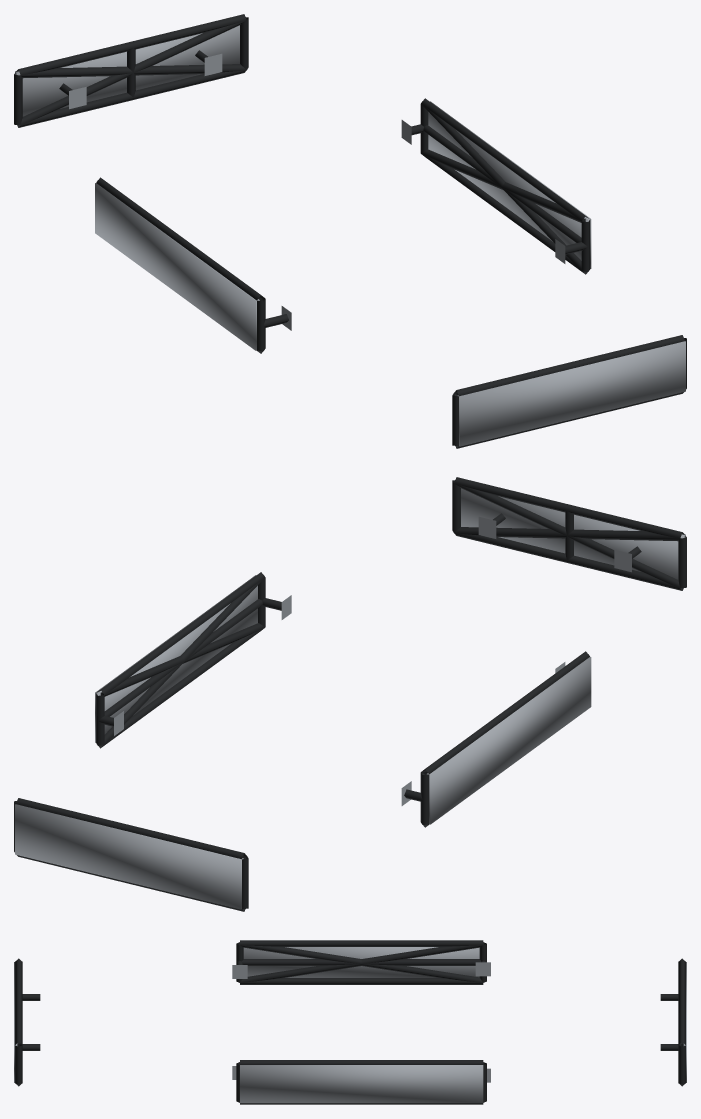
The model's file is ridgeway_corrente_protecao.glb.
The picture shows the model from 3 angles, top to bottom: view 1: azimuth 30°, elevation 25°; view 2: azimuth 150°, elevation 25°; view 3: azimuth 270°, elevation 25°; orthographic projection. The views are drawn at different scales.
Parts seen in each view (by area): view 1: Protection_front_Level3_Details, Protection_left_Level3_Details, Protection_rear_Level1_Details, Protection_rear_Level3_Details, Protection_right_Level1_Details, Protection_rear_Level2_Details, Protection_right_Level2_Details, Protection_right_Level3_Details, Protection_front_Level1_Details, Protection_left_Level1_Details; view 2: Protection_rear_Level3_Details, Protection_left_Level3_Details, Protection_front_Level1_Details, Protection_front_Level3_Details, Protection_right_Level1_Details, Protection_front_Level2_Details, Protection_right_Level2_Details, Protection_right_Level3_Details, Protection_rear_Level1_Details, Protection_left_Level1_Details; view 3: Protection_right_Level3_Details, Protection_left_Level2_Details, Protection_left_Level1_Details, Protection_left_Level3_Details, Protection_right_Level1_Details, Protection_rear_Level1_Details, Protection_front_Level1_Details.
Part boxes in pixels (<box>): Protection_front_Level3_Details: <box>457,341,685,446</box>; Protection_left_Level3_Details: <box>95,183,259,350</box>; Protection_rear_Level1_Details: <box>14,14,248,127</box>; Protection_rear_Level3_Details: <box>15,25,239,116</box>; Protection_right_Level1_Details: <box>401,98,590,274</box>; Protection_rear_Level2_Details: <box>16,20,246,126</box>; Protection_right_Level2_Details: <box>421,105,588,274</box>; Protection_right_Level3_Details: <box>428,101,591,268</box>; Protection_front_Level1_Details: <box>452,335,686,448</box>; Protection_left_Level1_Details: <box>96,177,291,353</box>; Protection_rear_Level3_Details: <box>15,804,243,909</box>; Protection_left_Level3_Details: <box>426,656,591,824</box>; Protection_front_Level1_Details: <box>452,477,686,590</box>; Protection_front_Level3_Details: <box>461,488,685,579</box>; Protection_right_Level1_Details: <box>96,572,291,748</box>; Protection_front_Level2_Details: <box>454,483,684,589</box>; Protection_right_Level2_Details: <box>97,577,265,747</box>; Protection_right_Level3_Details: <box>95,575,257,742</box>; Protection_rear_Level1_Details: <box>14,798,248,911</box>; Protection_left_Level1_Details: <box>401,651,589,827</box>; Protection_right_Level3_Details: <box>240,1065,483,1103</box>; Protection_left_Level2_Details: <box>239,943,483,982</box>; Protection_left_Level1_Details: <box>232,940,490,984</box>; Protection_left_Level3_Details: <box>243,947,479,977</box>; Protection_right_Level1_Details: <box>232,1060,490,1104</box>; Protection_rear_Level1_Details: <box>660,958,685,1086</box>; Protection_front_Level1_Details: <box>15,958,40,1086</box>.
Size of the model in its own units: 2.11 by 0.354 by 4.84.
Materials: 1 (1 with a texture image).
